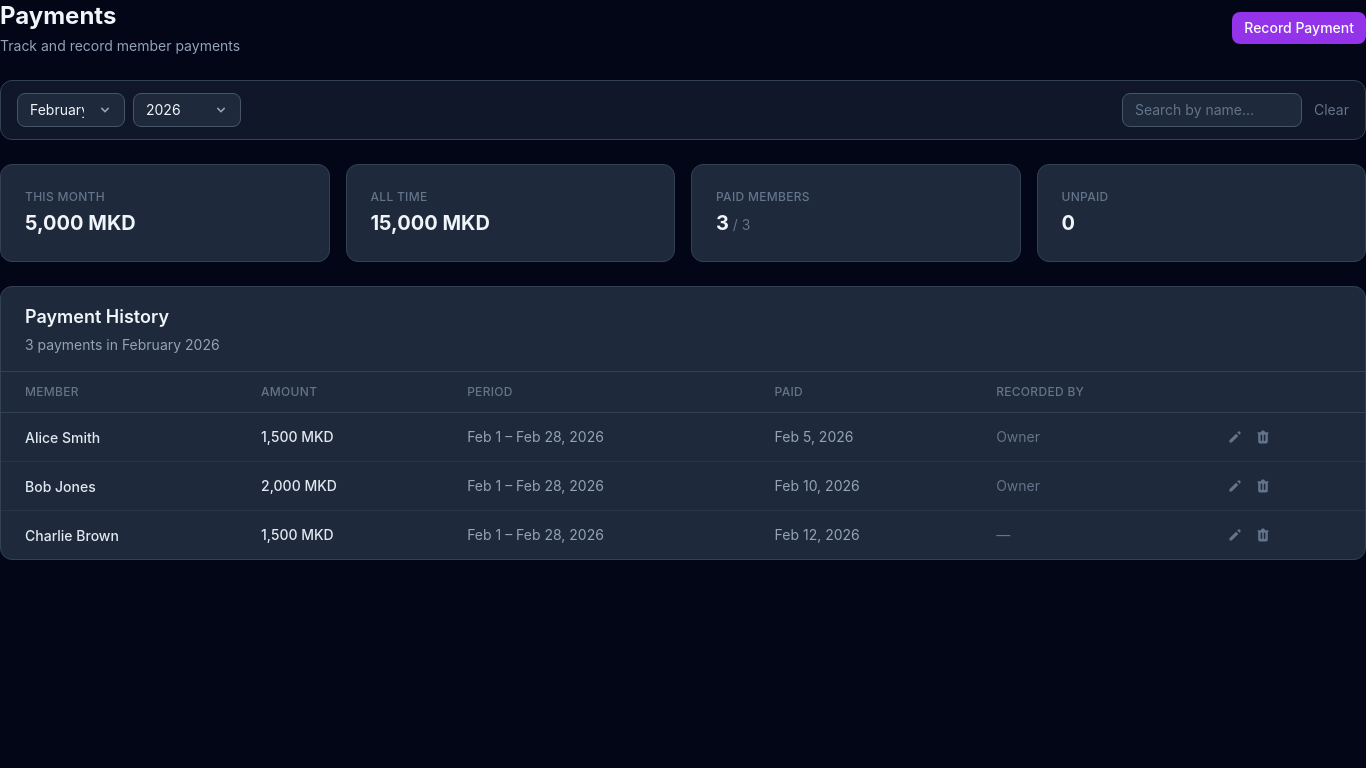
Test case: PaymentsClient › delete payment flow › closes confirmation modal on Cancel
The width and height of the screenshot is (1366, 768).
Click the button named "Delete payment for" at point(1263, 437), box [1251, 425, 1275, 449]
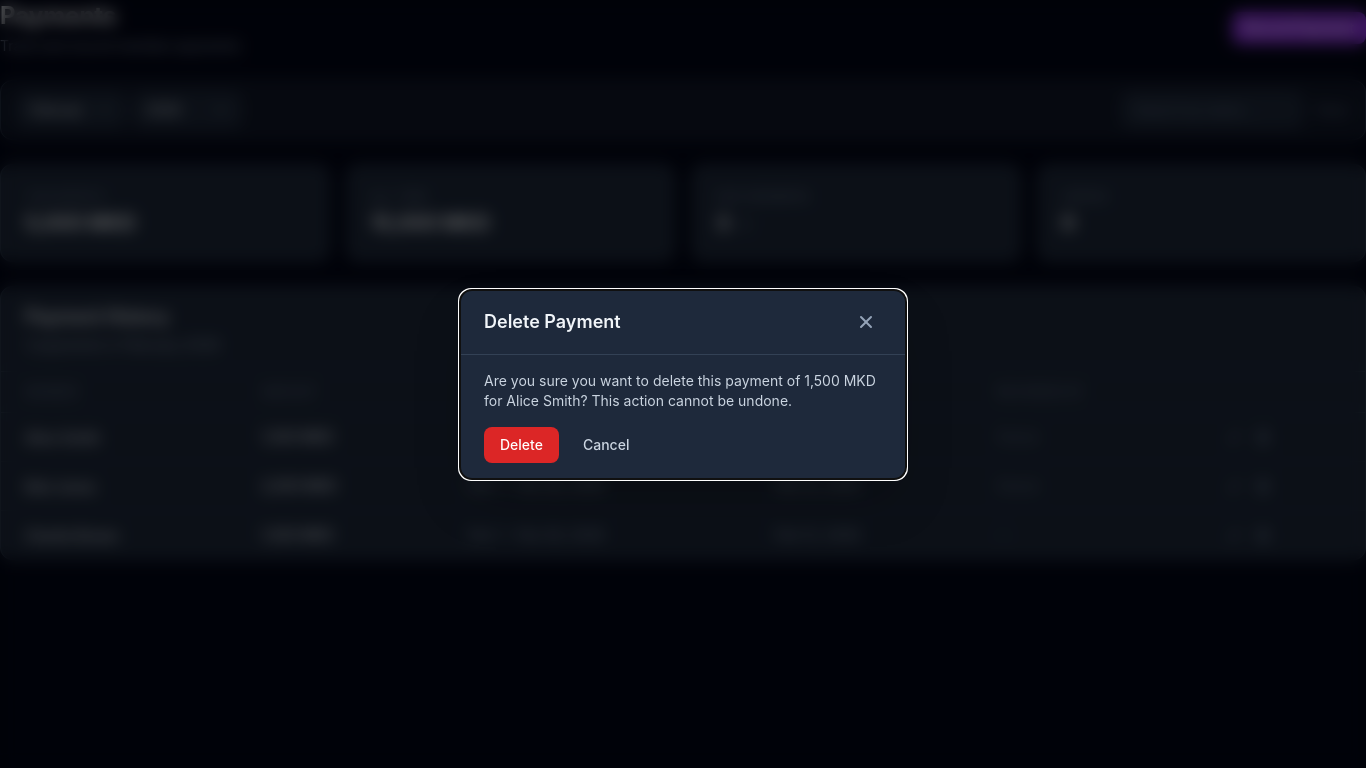
Click the button "Cancel" at point(606, 444), box [567, 426, 645, 462]
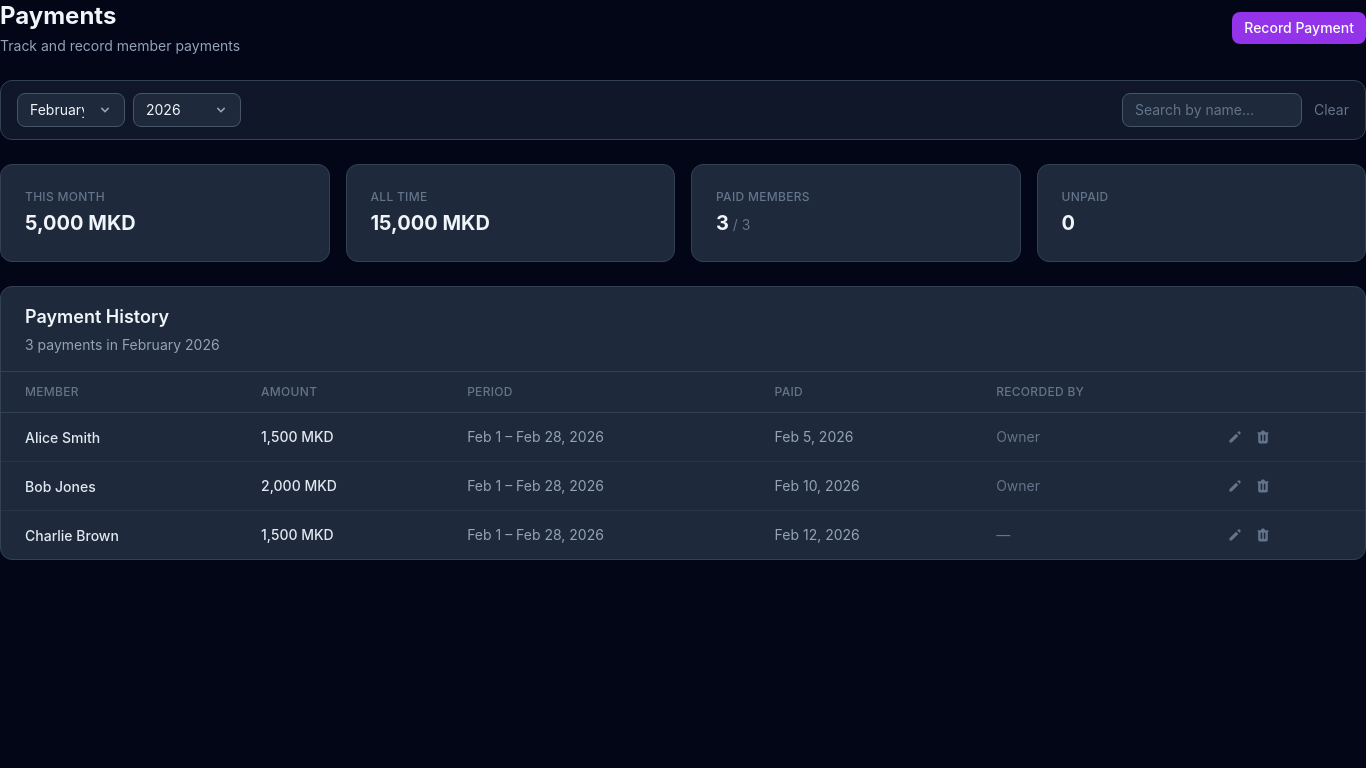
Now the text "cannot be undone" is gone
